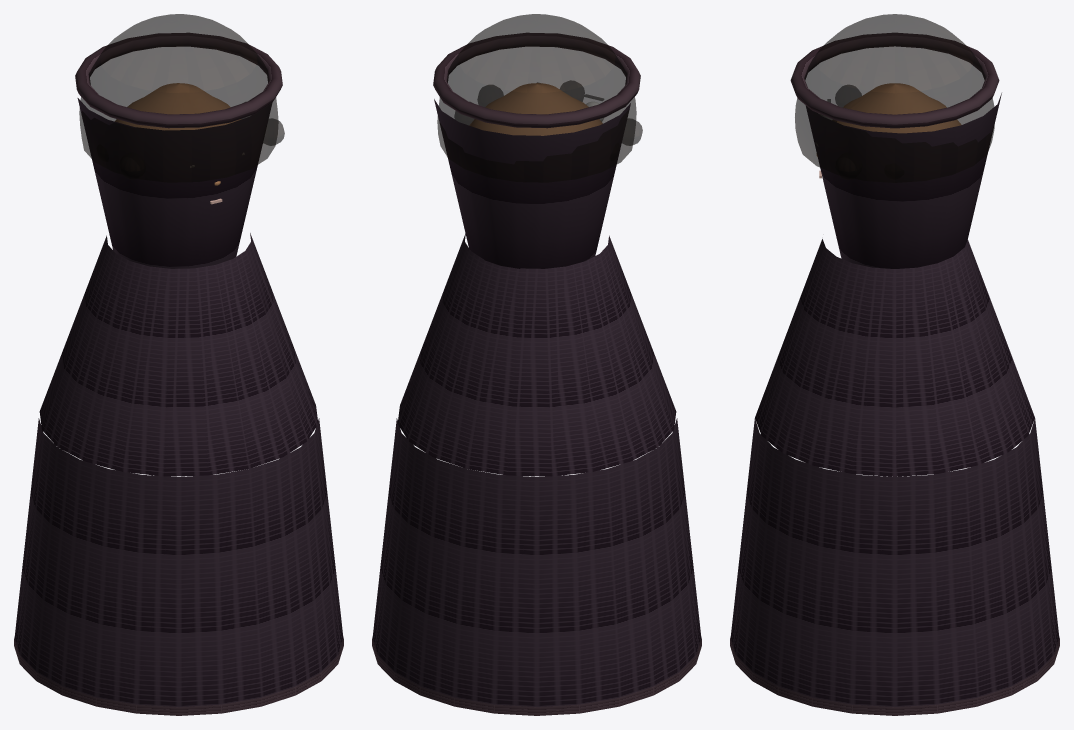
File: jemimah.glb
3 views of the same model, side by side, from view 1: azimuth 30°, elevation 25°; view 2: azimuth 150°, elevation 25°; view 3: azimuth 270°, elevation 25° (orthographic).
Visible parts, largest first — view 1: Character_jemimah_the_skeptic, head; view 2: Character_jemimah_the_skeptic, head; view 3: Character_jemimah_the_skeptic, head.
Boxes of the visible parts, bbox=[...] form: Character_jemimah_the_skeptic: bbox=[14, 14, 343, 715]; head: bbox=[115, 83, 240, 130]; Character_jemimah_the_skeptic: bbox=[372, 14, 701, 715]; head: bbox=[469, 83, 602, 135]; Character_jemimah_the_skeptic: bbox=[730, 14, 1059, 715]; head: bbox=[833, 83, 960, 132].
Size of the model in its own units: 0.8627 by 1.8 by 0.8627.
10 materials, 6 textured.
